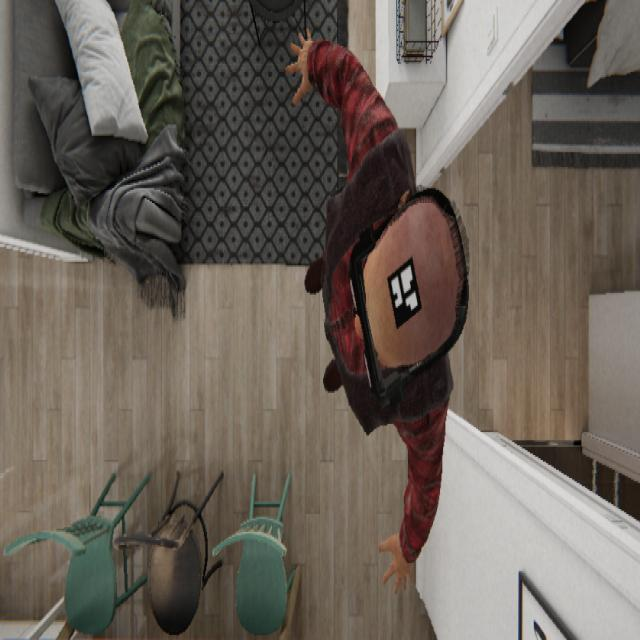AruCO: (386, 252, 422, 329)
Human: (284, 25, 471, 594)
